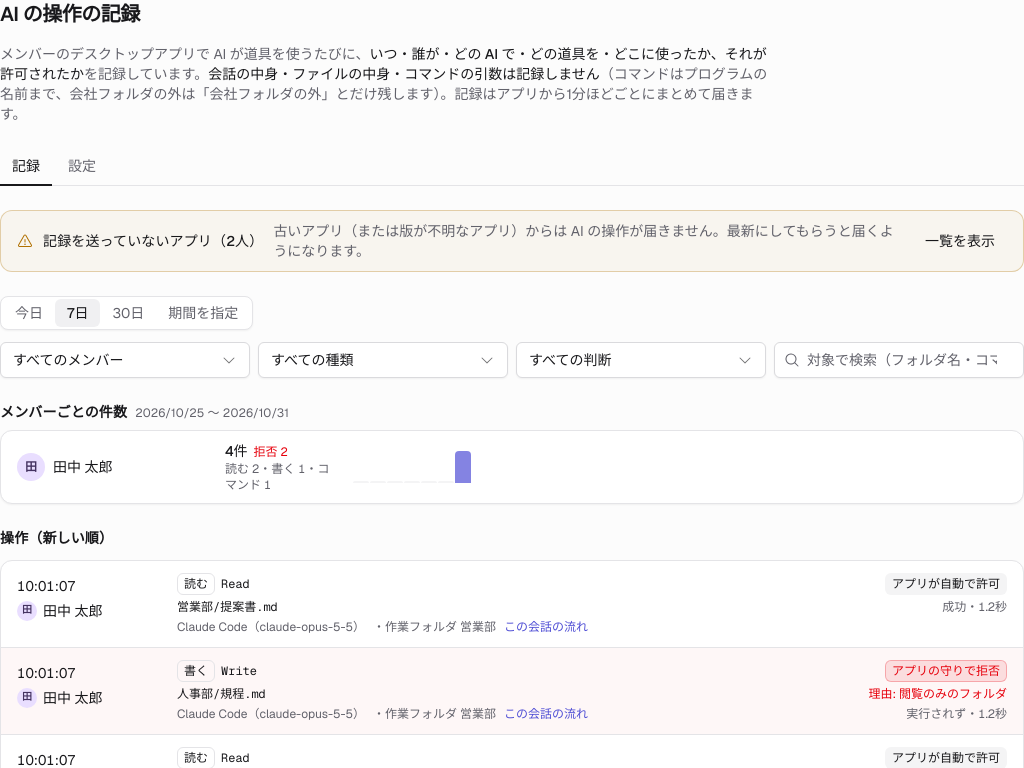
Test: the log page › the apps that do not send the log: one line, the list behind a toggle
The width and height of the screenshot is (1024, 768).
Click the button "一覧を表示" at (960, 241), box [913,225,1007,257]
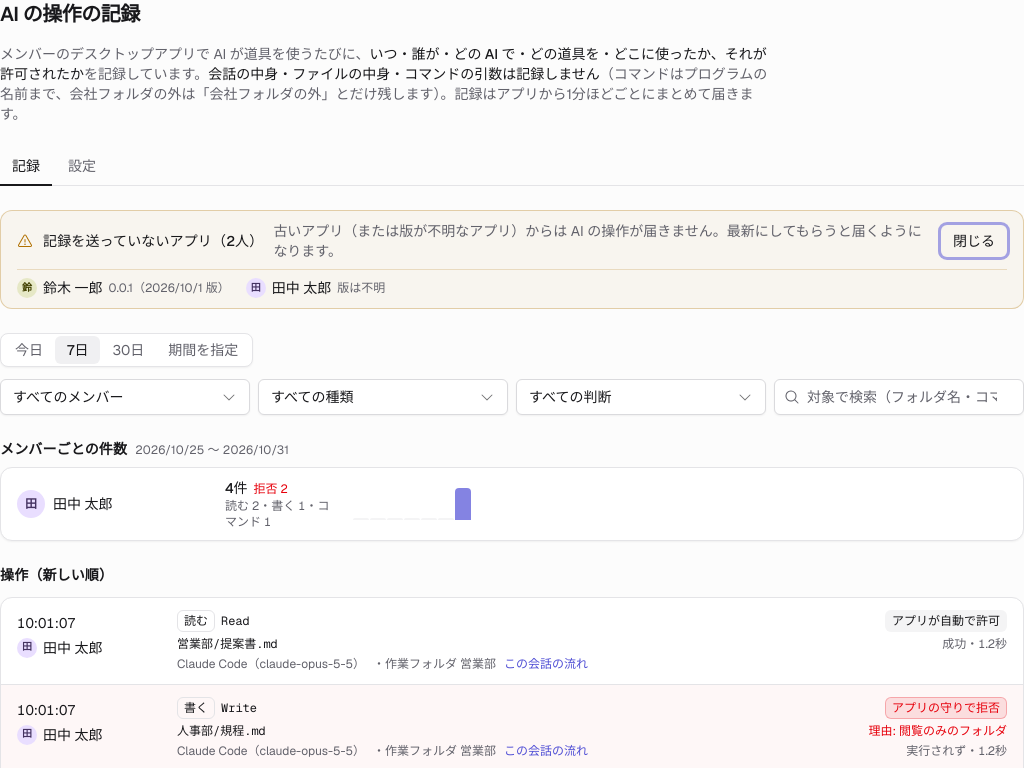
expect the button named "一覧を表示" is expanded: met
expect the number of list items is 2: met, box [17,278,230,298]; [246,278,385,298]
expect the text "鈴木 一郎" is shown: met, box [43,278,102,298]
Click the button named "一覧を表示" at (974, 241), box [941,225,1007,257]
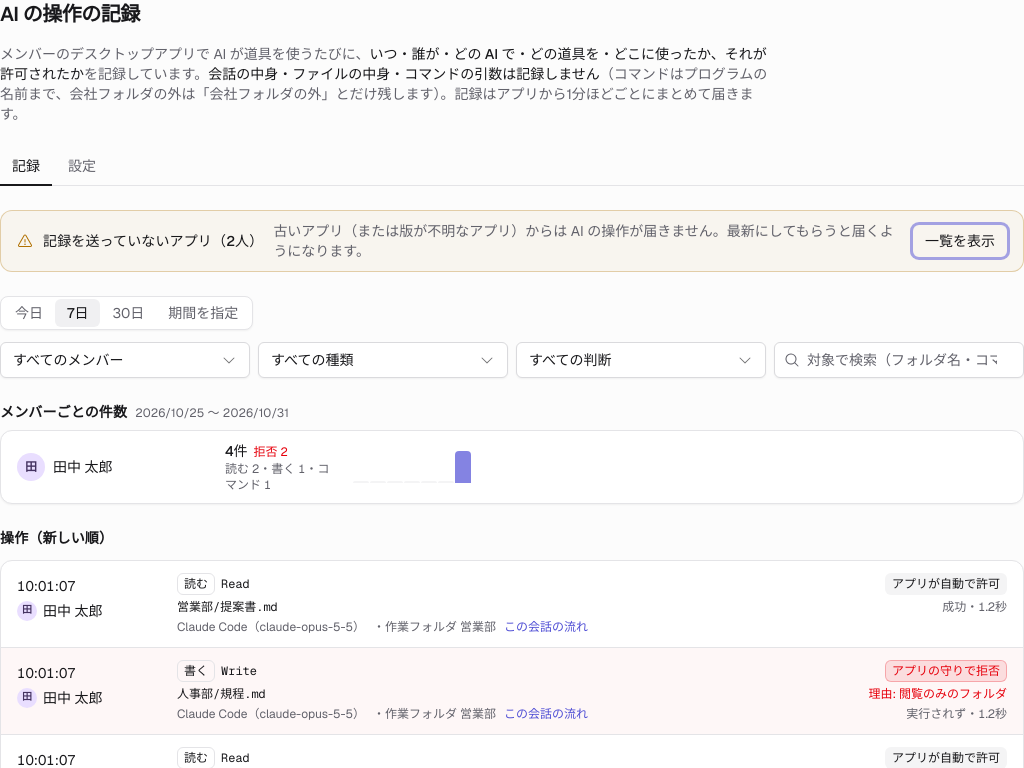
expect the button "一覧を表示" is collapsed: met, box [913,225,1007,257]
